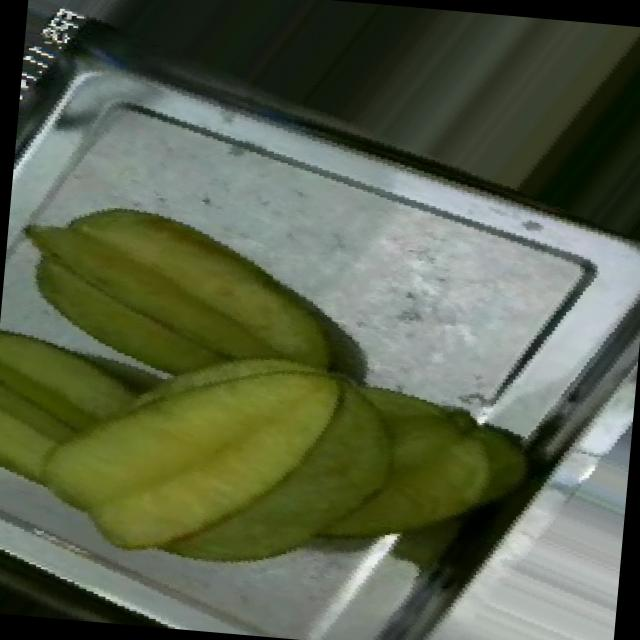fruit: (6, 261, 398, 635), (0, 159, 386, 448), (257, 326, 561, 608)
